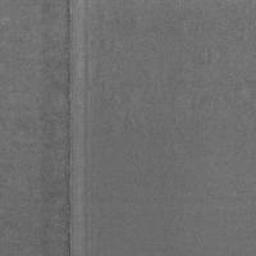Welding line: (64, 0, 73, 256)
